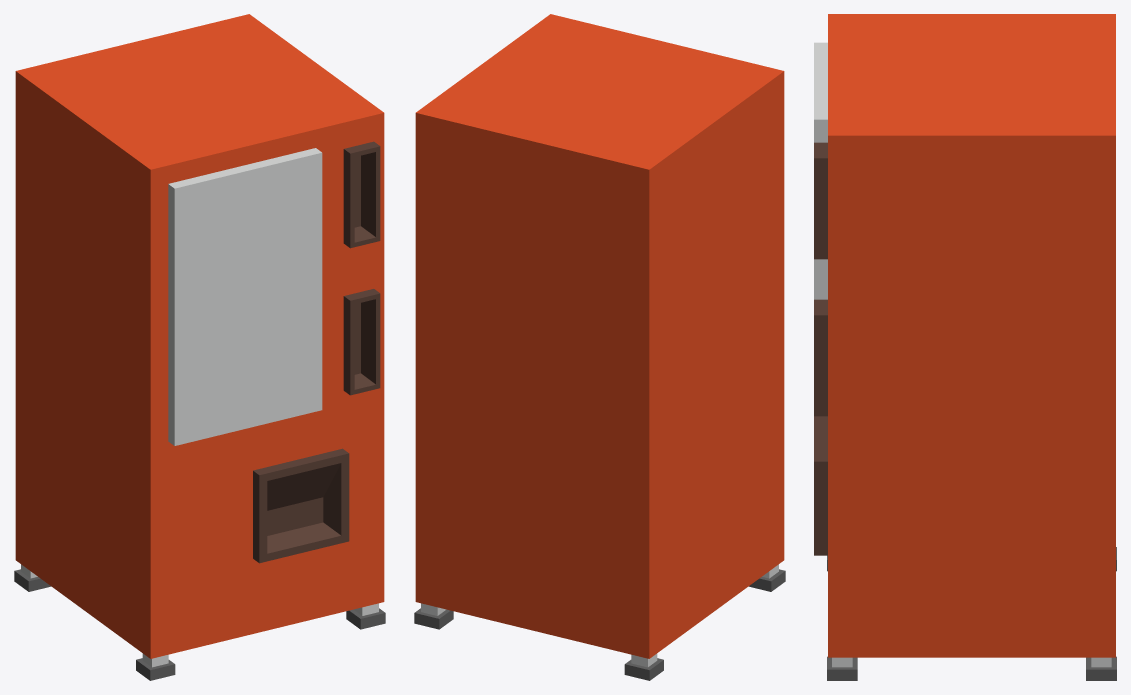
The model's file is Mixed_Fridge_01.fbx.
3 renders of one model, left to right at view 1: azimuth 30°, elevation 25°; view 2: azimuth 150°, elevation 25°; view 3: azimuth 270°, elevation 25°, orthographic. The views are drawn at different scales.
Parts seen in each view (by area): view 1: Mixed_Fridge_03; view 2: Mixed_Fridge_03; view 3: Mixed_Fridge_03.
Part boxes in pixels (x1,y1,x2,y2): Mixed_Fridge_03: [14, 14, 385, 680]; Mixed_Fridge_03: [414, 14, 785, 680]; Mixed_Fridge_03: [814, 14, 1116, 680].
Size of the model in its own units: 151 by 313 by 158.
